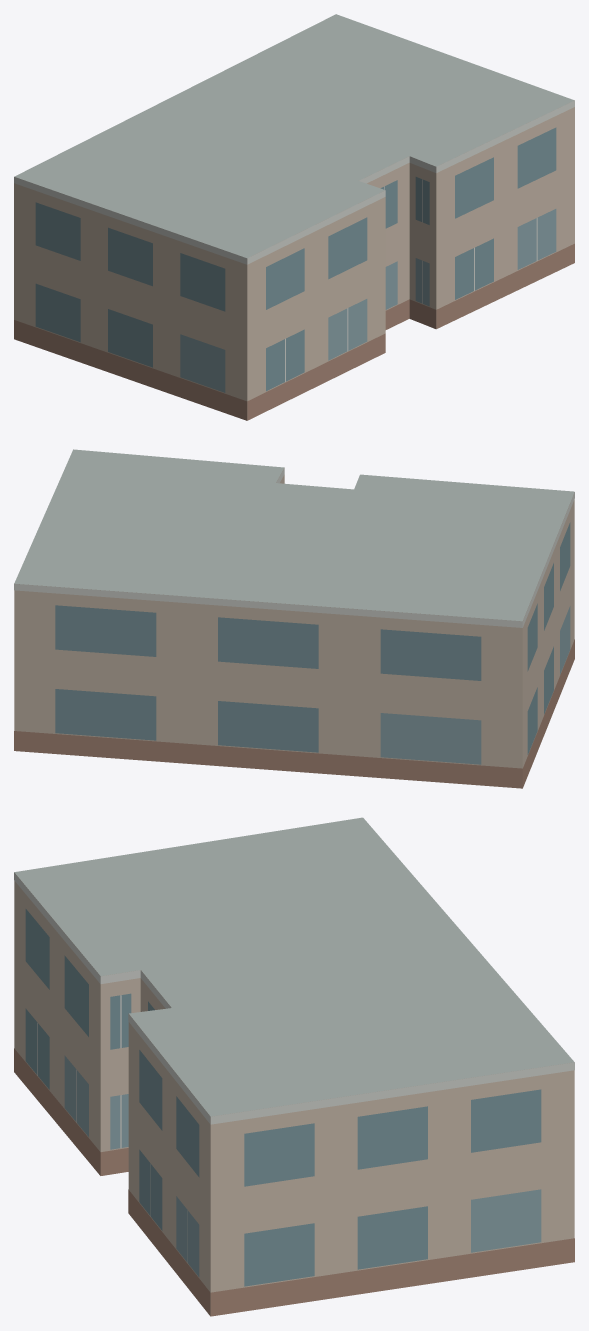
The model's file is survey-upis-32973076.glb.
3 views of the same model, one above another, from view 1: azimuth 30°, elevation 25°; view 2: azimuth 150°, elevation 25°; view 3: azimuth 270°, elevation 25° (orthographic). The views are drawn at different scales.
Visible parts, largest first — view 1: survey-upis-32973076.tmp; view 2: survey-upis-32973076.tmp; view 3: survey-upis-32973076.tmp.
Boxes of the visible parts, left/top/right/bottom form: survey-upis-32973076.tmp: left=14, top=14, right=574, bottom=420; survey-upis-32973076.tmp: left=14, top=449, right=574, bottom=788; survey-upis-32973076.tmp: left=14, top=817, right=574, bottom=1316.
Bounding box in the file's own units: 19.6 × 6.1 × 15.52.
